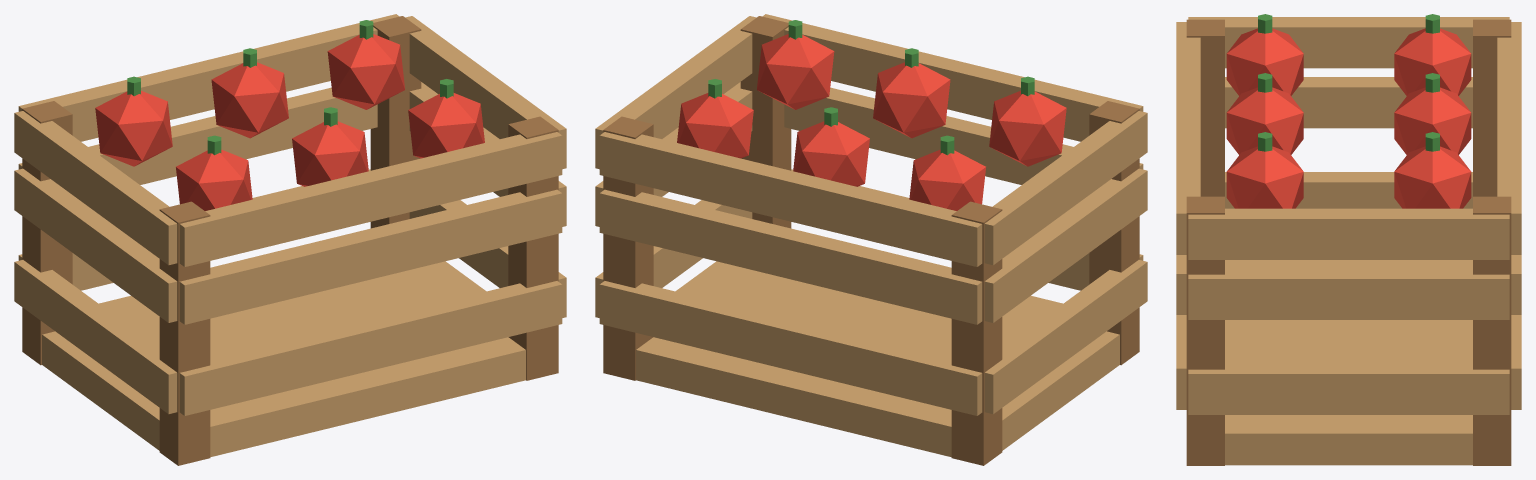
Rendered from TR_Crate_Tomato.glb.
3 renders of one model, left to right at view 1: azimuth 30°, elevation 25°; view 2: azimuth 150°, elevation 25°; view 3: azimuth 270°, elevation 25°, orthographic. The views are drawn at different scales.
Parts seen in each view (by area): view 1: TR_Crate_Tomato; view 2: TR_Crate_Tomato; view 3: TR_Crate_Tomato.
Boxes of the visible parts, x1,y1,x2,y2 form: TR_Crate_Tomato: [14, 14, 566, 465]; TR_Crate_Tomato: [595, 14, 1147, 465]; TR_Crate_Tomato: [1176, 14, 1521, 465].
Bounding box in the file's own units: 0.685 × 0.463 × 0.495.
